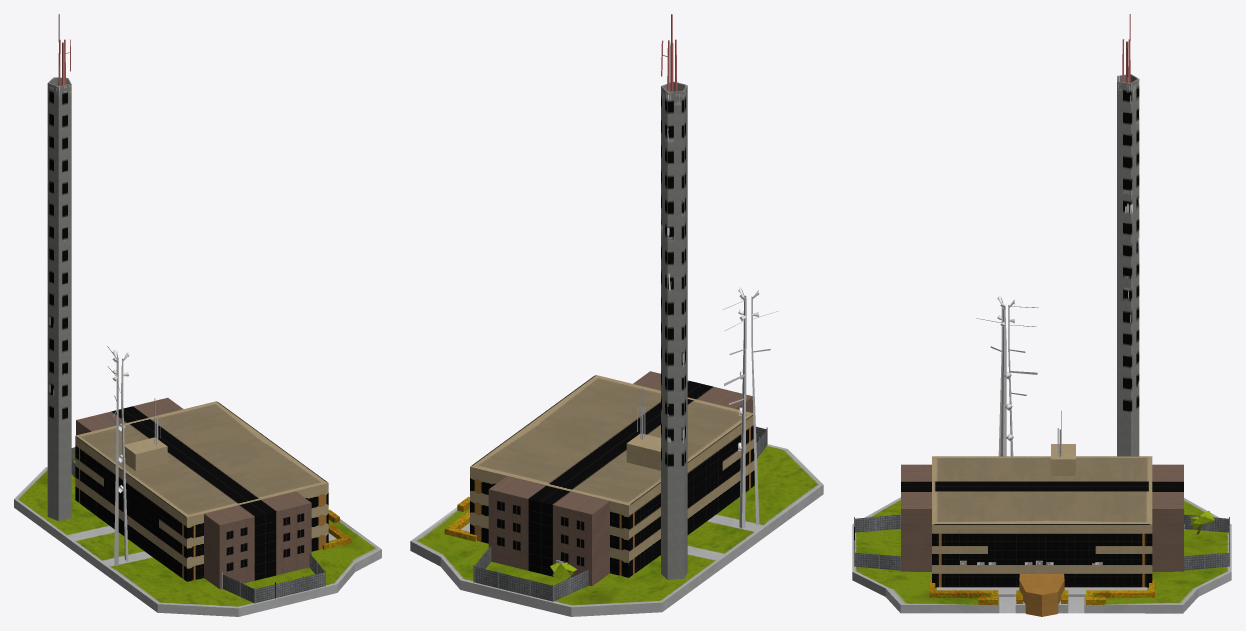
Rendered from embratelLOD2.fbx.
3 views of the same model, side by side, from view 1: azimuth 30°, elevation 25°; view 2: azimuth 150°, elevation 25°; view 3: azimuth 270°, elevation 25° (orthographic). The views are drawn at different scales.
Parts seen in each view (by area): view 1: LOD2; view 2: LOD2; view 3: LOD2.
Boxes of the visible parts, x1,y1,x2,y2 form: LOD2: (14,14,381,616); LOD2: (410,14,823,616); LOD2: (852,14,1231,616).
Bounding box in the file's own units: 1886 × 4002 × 2717.
1 material, 1 textured.
